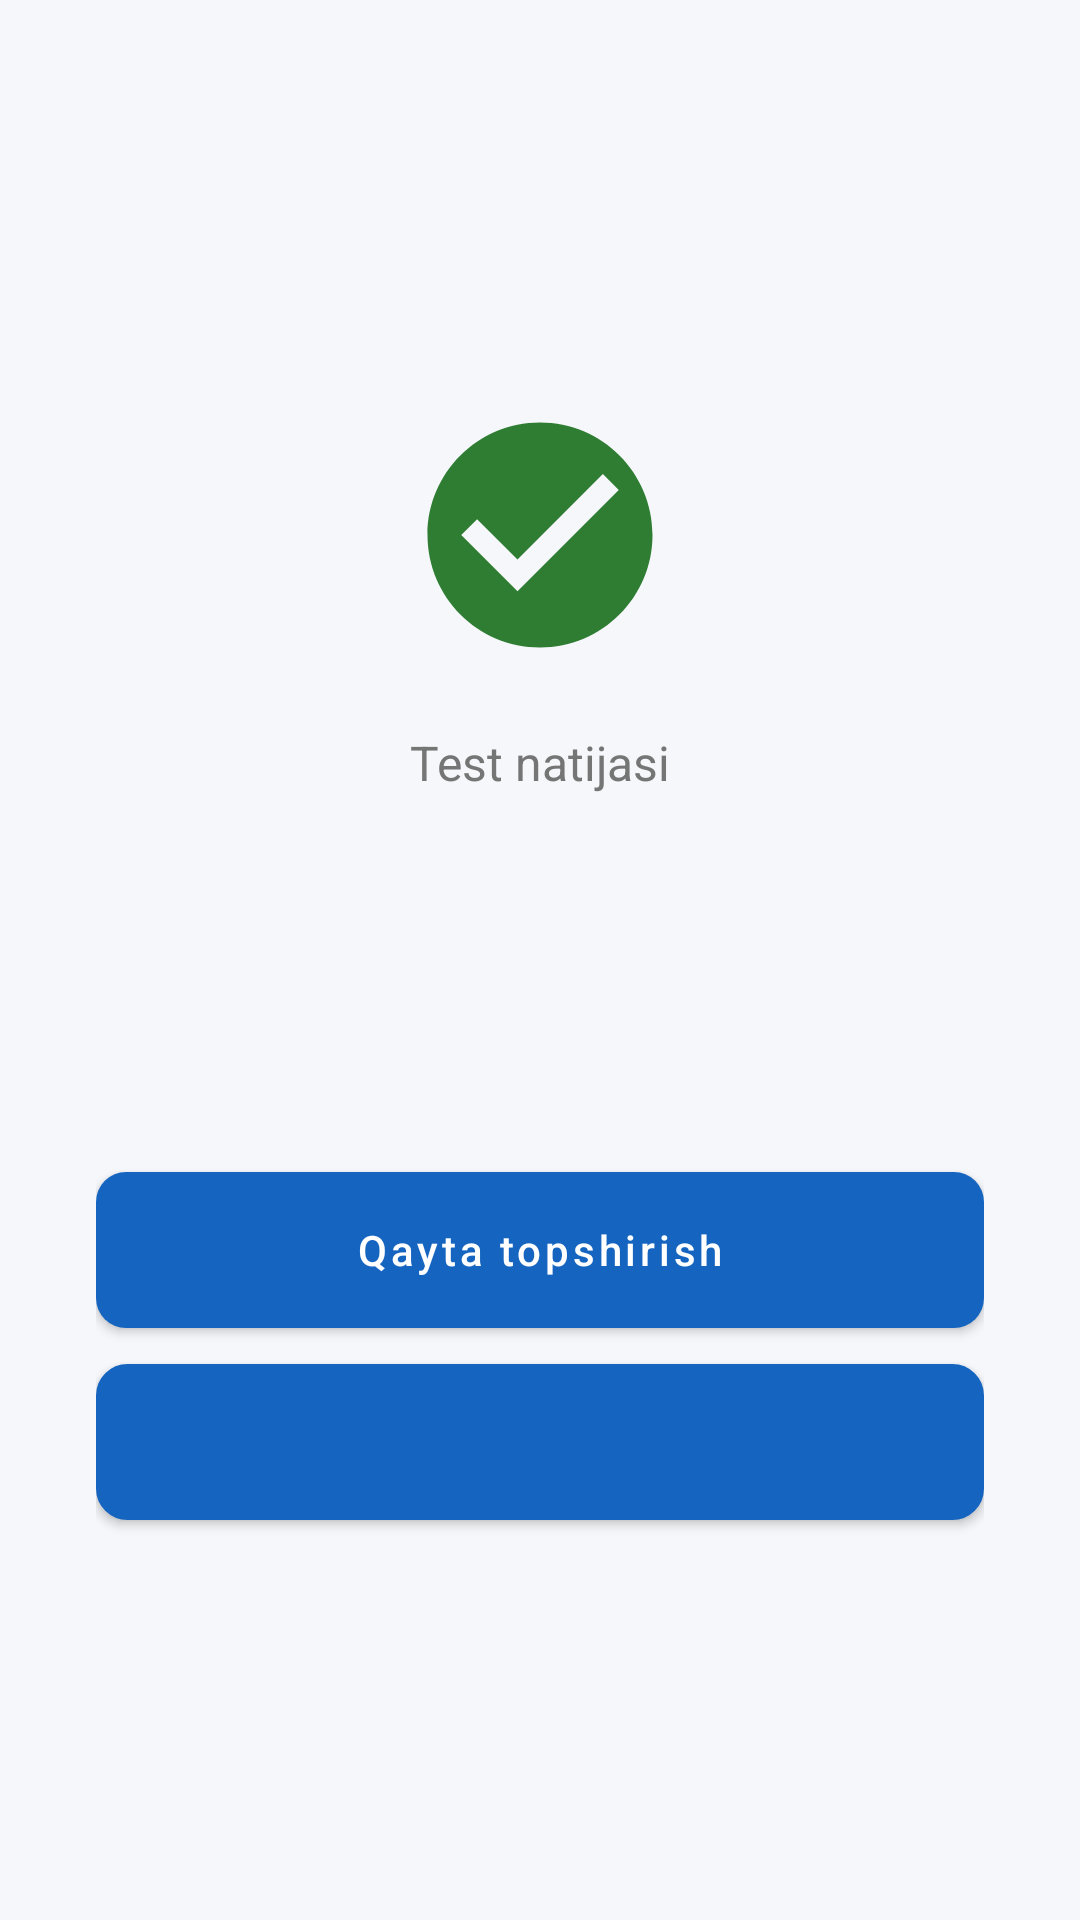

Icons on this 1080 x 1920 Android screen, each with its box as (x1=x1, y1=y1, x2=x2, y2=y2):
check circle: (x1=427, y1=422, x2=653, y2=648)
